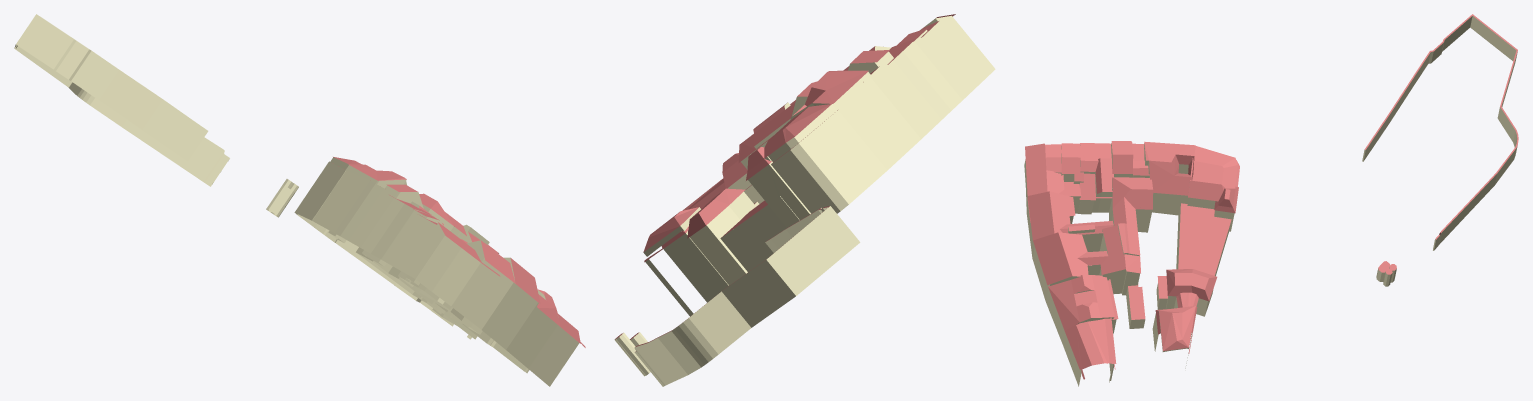
The model's file is tile_028.glb.
The picture shows the model from 3 angles, left to right: view 1: azimuth 30°, elevation 25°; view 2: azimuth 150°, elevation 25°; view 3: azimuth 270°, elevation 25°; orthographic projection. The views are drawn at different scales.
Parts seen in each view (by area): view 1: Batched_Building_ID_4B0F245F-8302-4636-AC13-35334CB55B13; view 2: Batched_Building_ID_4B0F245F-8302-4636-AC13-35334CB55B13; view 3: Batched_Building_ID_4B0F245F-8302-4636-AC13-35334CB55B13.
Part boxes in pixels (bbox=[...]): Batched_Building_ID_4B0F245F-8302-4636-AC13-35334CB55B13: bbox=[14, 14, 585, 386]; Batched_Building_ID_4B0F245F-8302-4636-AC13-35334CB55B13: bbox=[614, 14, 995, 386]; Batched_Building_ID_4B0F245F-8302-4636-AC13-35334CB55B13: bbox=[1024, 14, 1518, 386].
Bounding box in the file's own units: 136 × 104 × 187.
